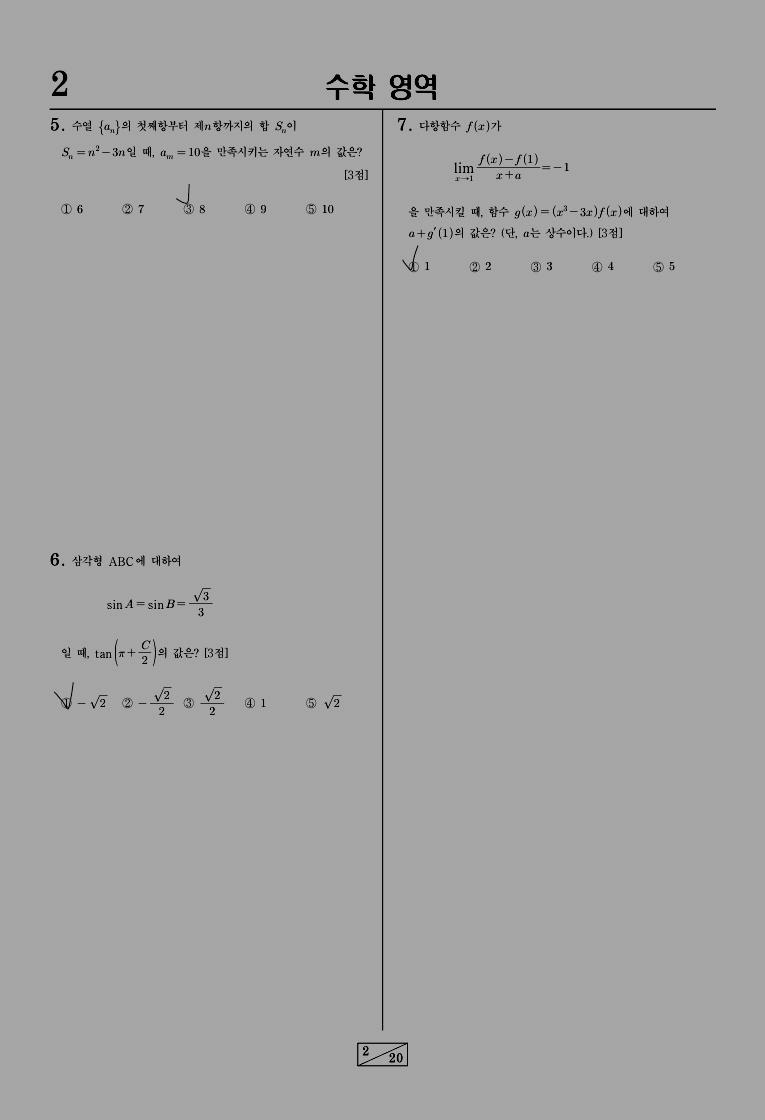question: (34, 543, 361, 737), (385, 110, 691, 296), (38, 110, 379, 233)
